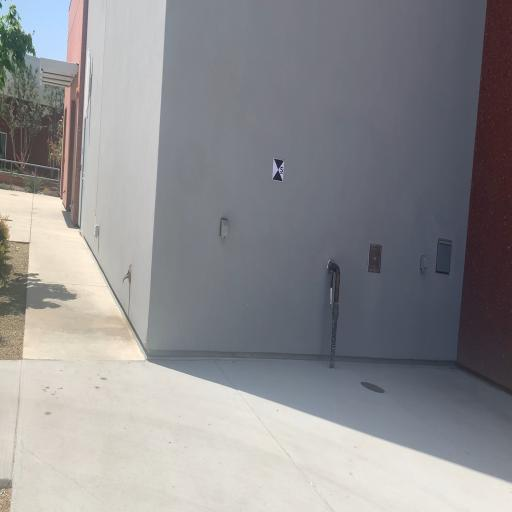target5: (272, 157, 284, 183)
